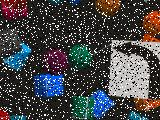Left: (109, 40, 160, 100)
